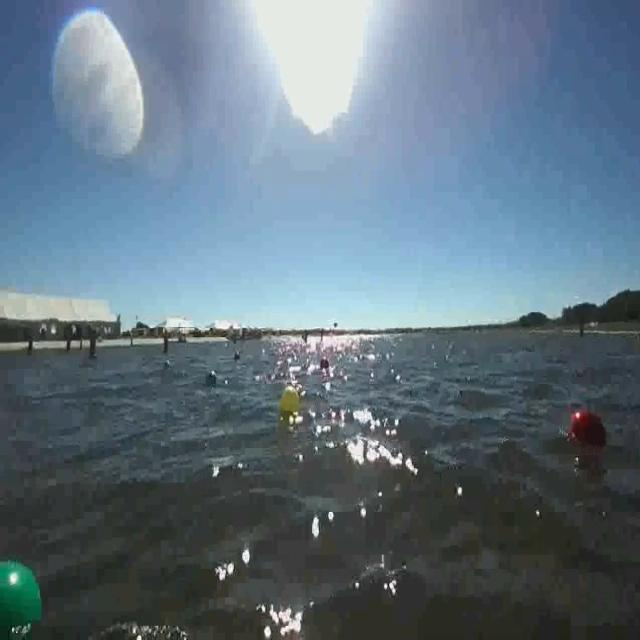green-buoy: (0, 556, 43, 639)
red-buoy: (570, 409, 588, 431)
yellow-buoy: (279, 384, 301, 414)
